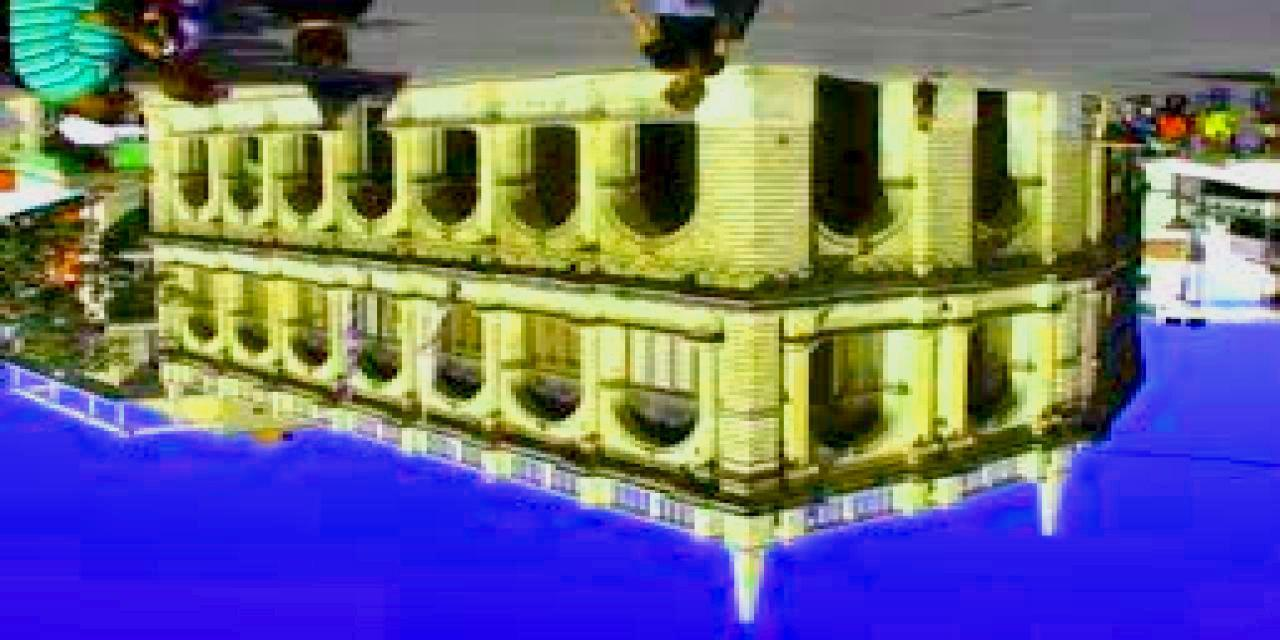Loggia: (159, 67, 1187, 627)
